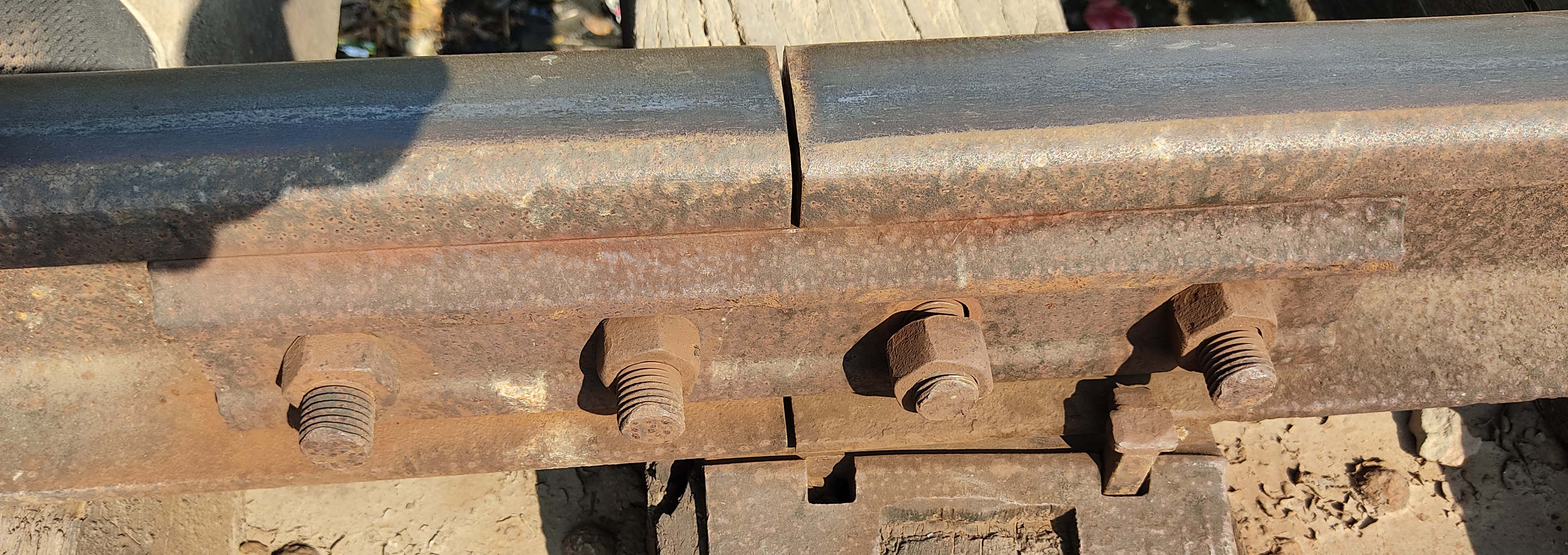duan lie: (759, 28, 832, 242)
loss2: (785, 442, 883, 522)
